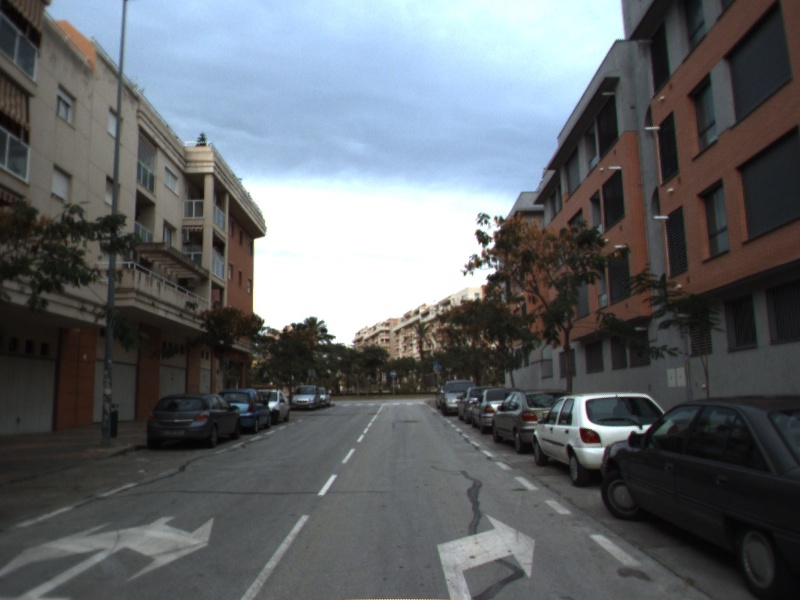RIGHT: (434, 511, 539, 600)
